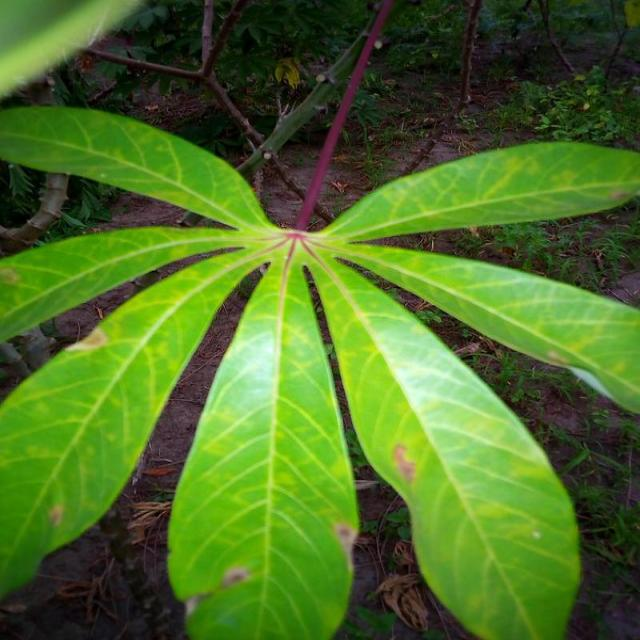cassava leaf: (0, 98, 638, 637), (302, 240, 582, 638), (166, 240, 360, 638)
